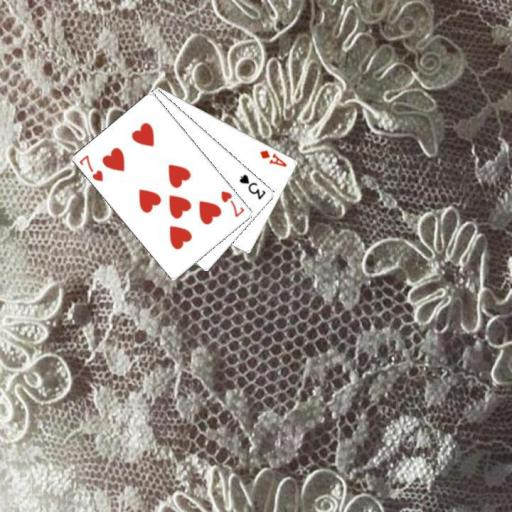3S: (236, 171, 267, 201)
7H: (76, 151, 105, 183), (218, 188, 246, 219)
AD: (257, 147, 289, 169)
